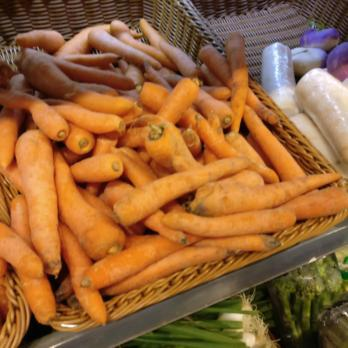Carrot: (0, 29, 114, 329), (118, 26, 197, 268), (195, 32, 252, 251), (250, 121, 348, 247)
